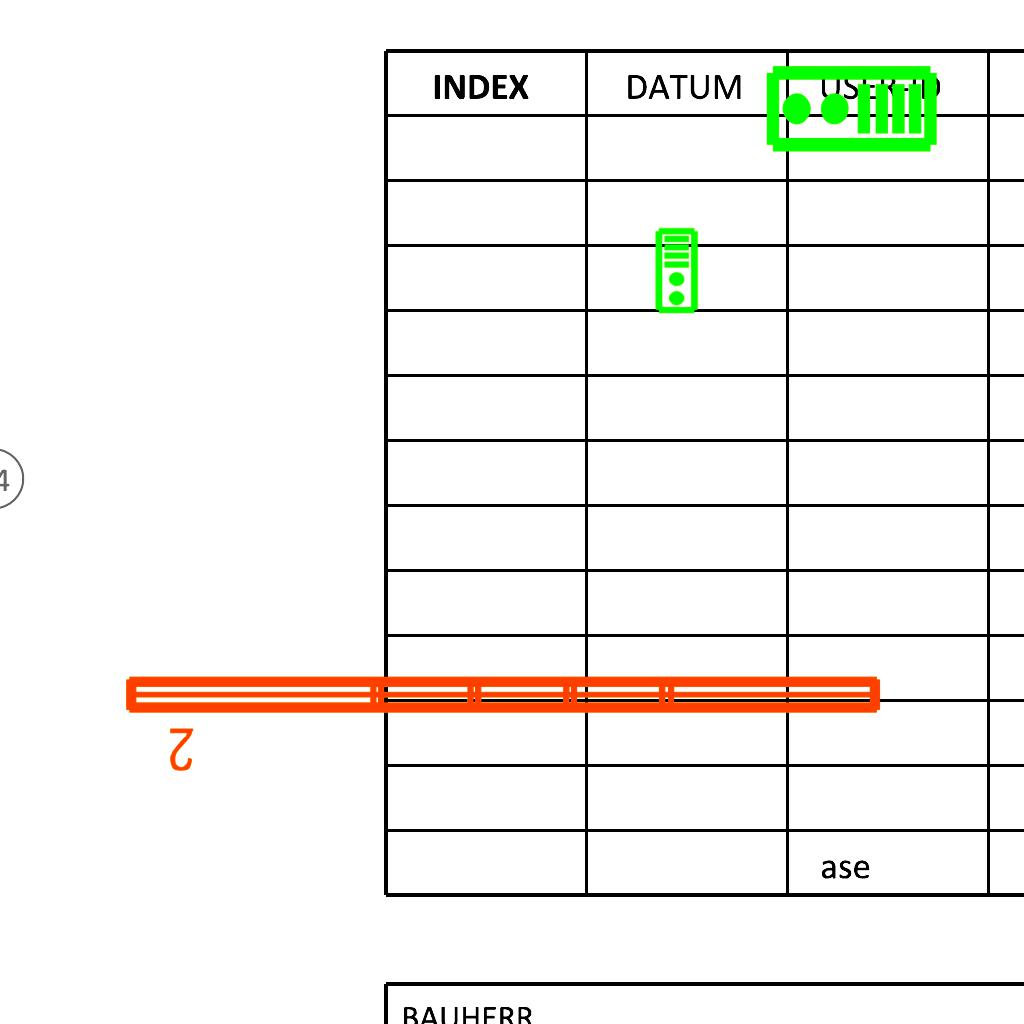Ambulanz_Pendelleuchte_LED: (117, 664, 891, 776)
Gegensprechanlage_mit_Video: (763, 63, 939, 158), (654, 227, 701, 315)
